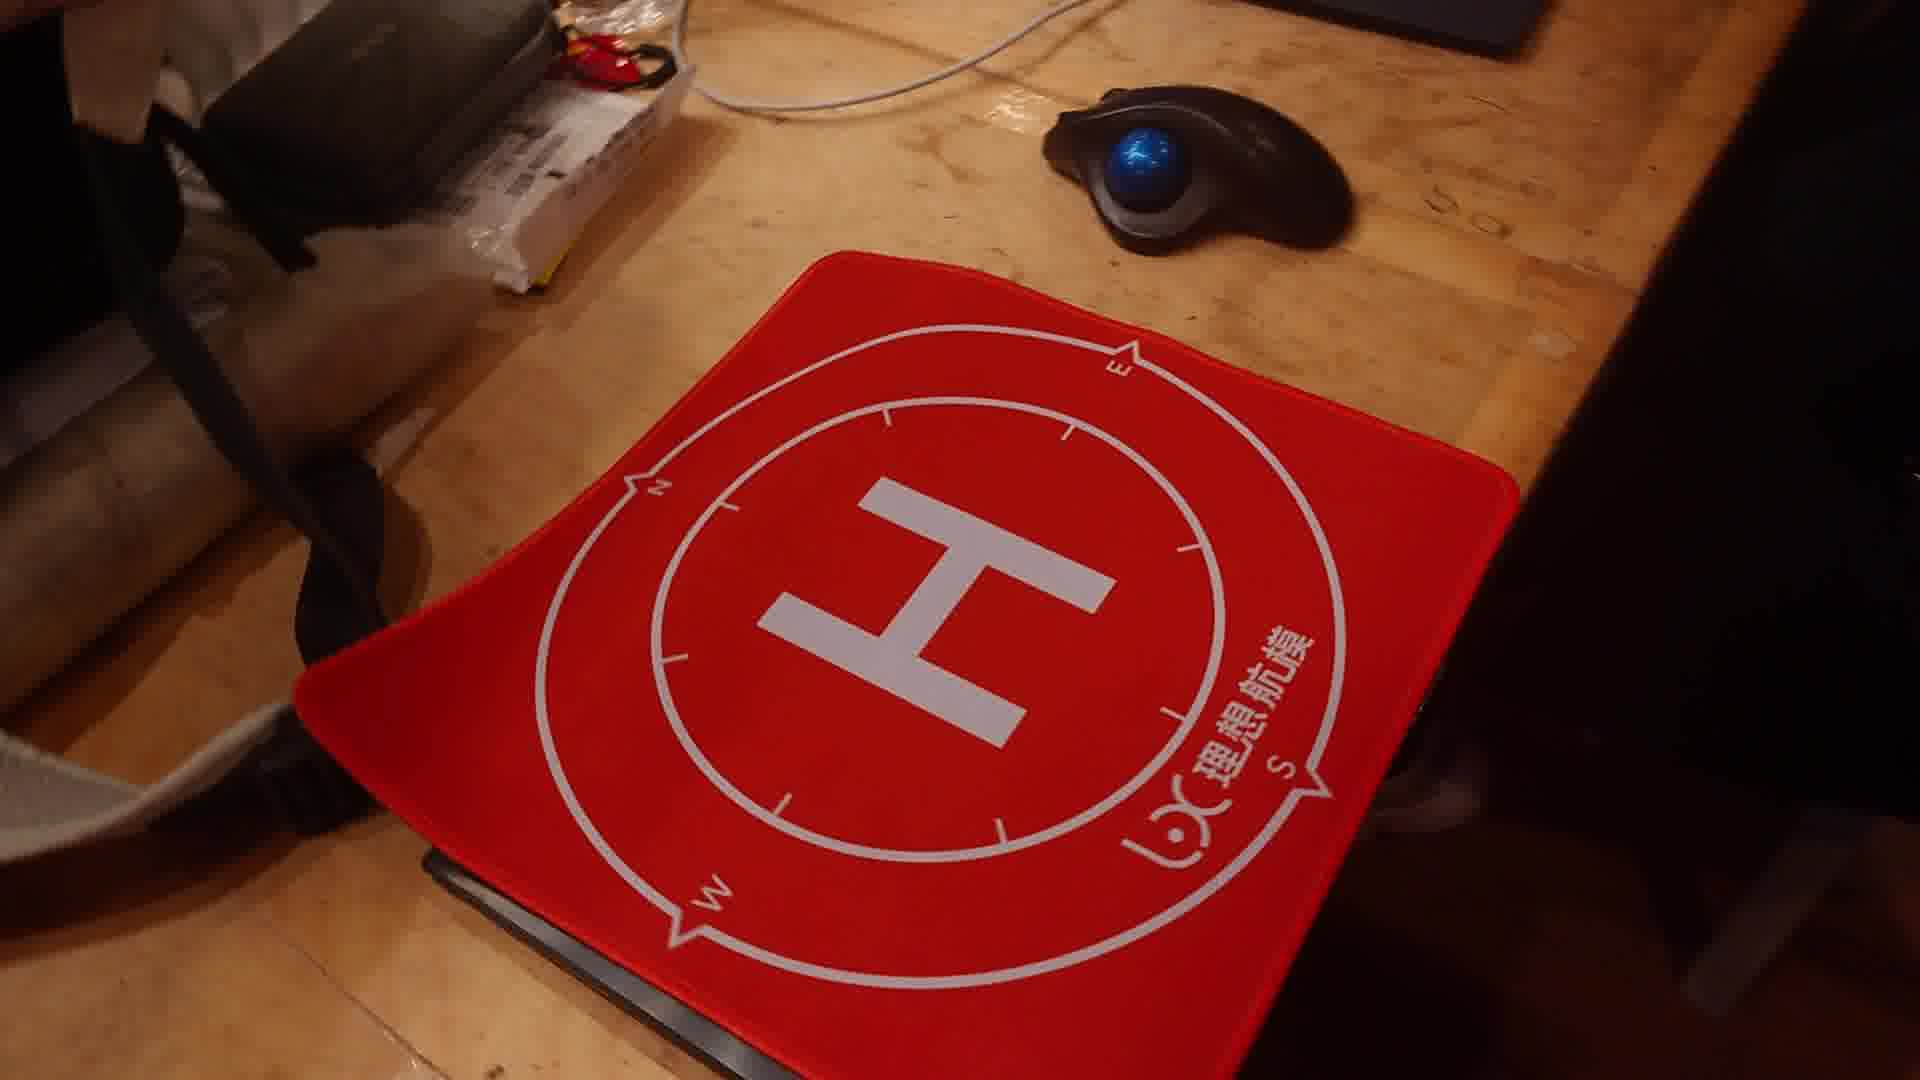H: (753, 472, 1118, 746)
